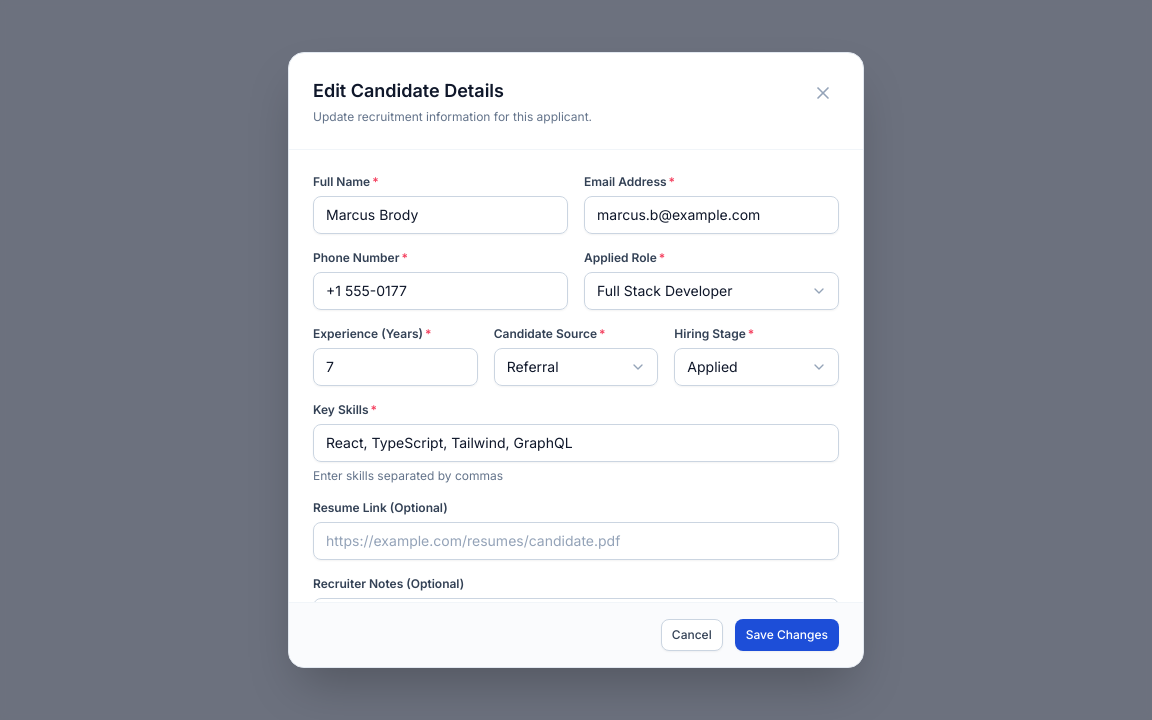
Phase 6: Frontend Accessibility, Keyboard & Workflow Reliability › End-to-End Workflow Resilience › surfaces backend 409 duplicate email error cleanly inside modal without closing it
Click the button "Save Changes". click: click(787, 635)
box: [735,619,839,651]
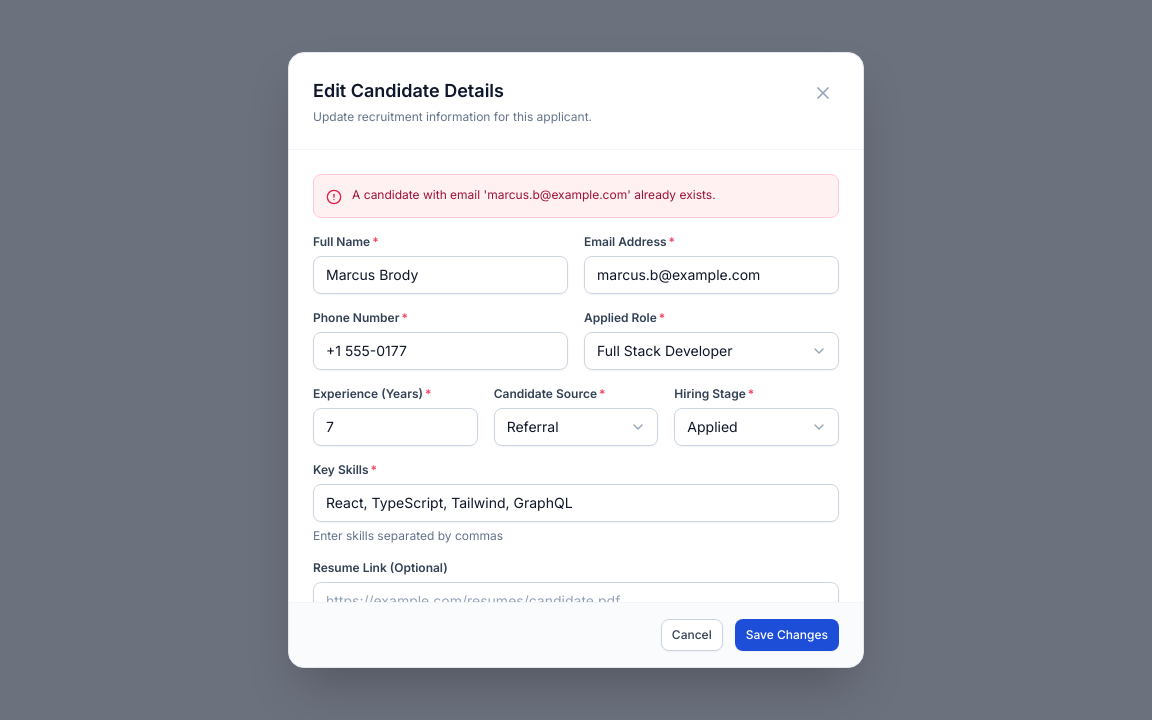
Expected: the field labelled "Email Address*" is shown, [584,256,839,294]
Expected: the text "A candidate with email 'marcus.b@example.com' already exists." is shown, [352,187,716,203]
